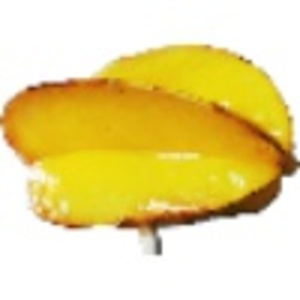carambola: (1, 42, 300, 254)
